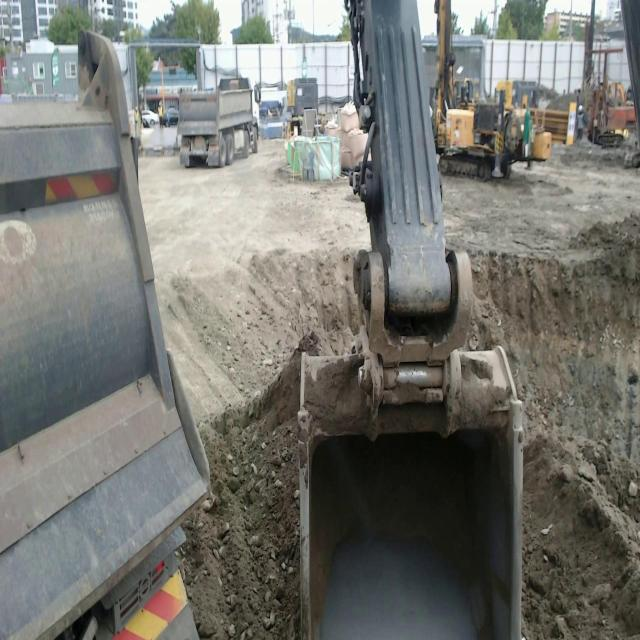white-sand: (140, 141, 369, 639), (443, 146, 640, 639)
